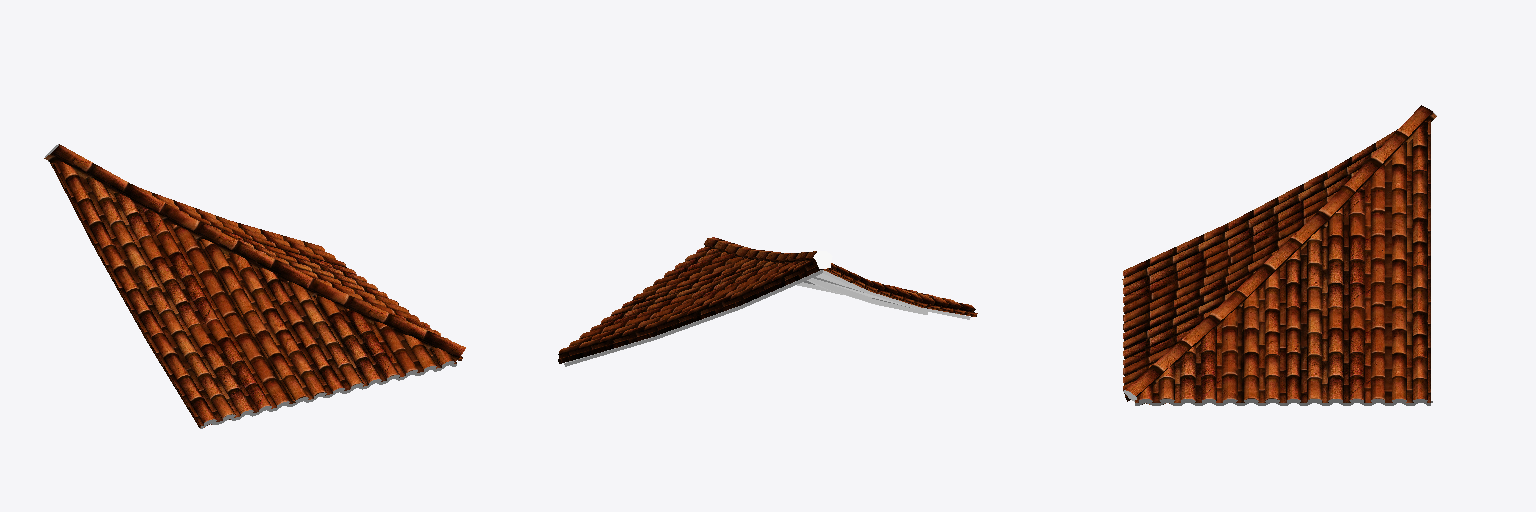
3 renders of one model, left to right at view 1: azimuth 30°, elevation 25°; view 2: azimuth 150°, elevation 25°; view 3: azimuth 270°, elevation 25°, orthographic.
Parts seen in each view (by area): view 1: Line02, Line01, Line03, Object01; view 2: Line03, Line02, Box06, Line01, Box11; view 3: Line03, Line02, Line01, Object02, Box11.
Boxes of the visible parts, x1=… form: Line02: x1=50, y1=162, x2=456, y2=427; Line01: x1=44, y1=144, x2=465, y2=360; Line03: x1=132, y1=184, x2=462, y2=360; Object01: x1=200, y1=361, x2=456, y2=428; Line03: x1=558, y1=247, x2=821, y2=363; Line02: x1=822, y1=263, x2=977, y2=316; Box06: x1=797, y1=270, x2=970, y2=319; Line01: x1=704, y1=237, x2=818, y2=268; Box11: x1=564, y1=270, x2=822, y2=366; Line03: x1=1135, y1=120, x2=1430, y2=404; Line02: x1=1122, y1=129, x2=1397, y2=401; Line01: x1=1125, y1=105, x2=1436, y2=399; Object02: x1=1135, y1=399, x2=1430, y2=405; Box11: x1=1431, y1=121, x2=1432, y2=402.
Size of the model in its own units: 4.49 by 2.76 by 4.46.
3 materials, 1 textured.